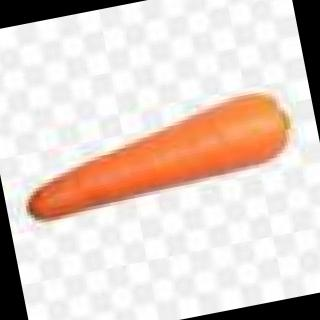Wortel: (8, 87, 308, 233)
